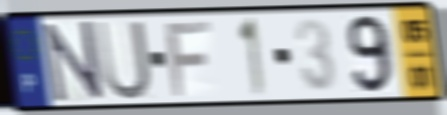1: (237, 13, 266, 100)
3: (293, 16, 337, 95)
9: (346, 12, 395, 95)
F: (163, 18, 214, 99)
N: (41, 18, 106, 105)
U: (93, 17, 154, 102)
